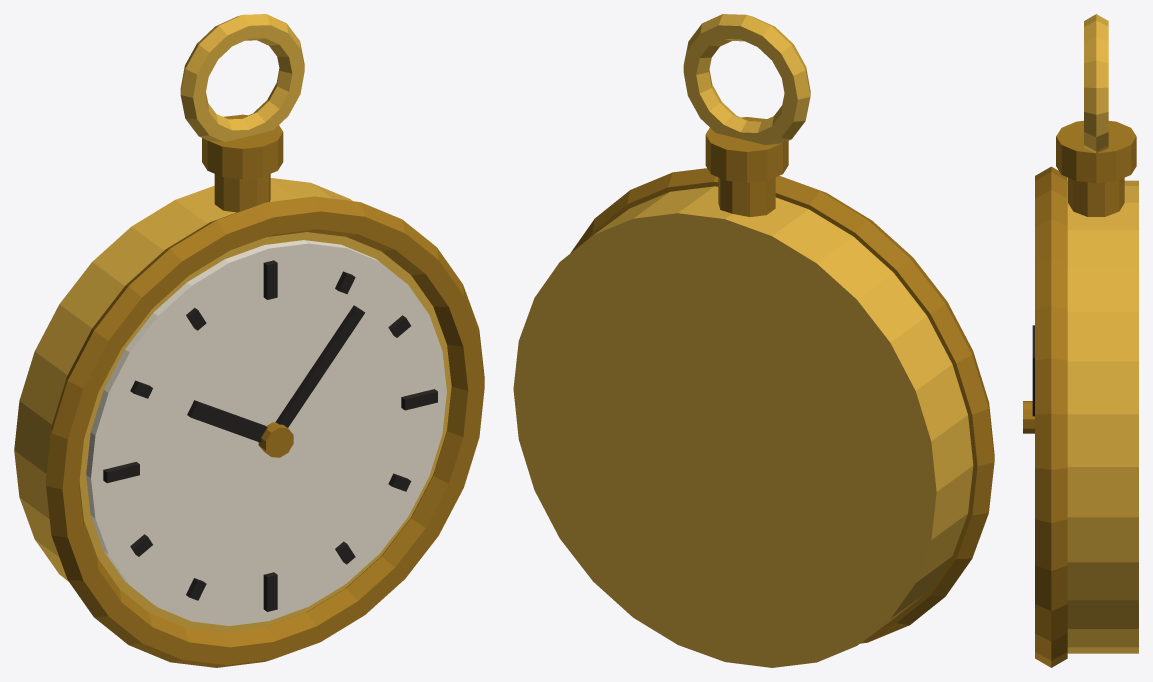
File: charm_relogio.glb
3 views of the same model, side by side, from view 1: azimuth 30°, elevation 25°; view 2: azimuth 150°, elevation 25°; view 3: azimuth 270°, elevation 25° (orthographic). The views are drawn at different scales.
Visible parts, largest first — view 1: mostrador, aro, caixa, argola, coroa, marcas, ponteiros, pino; view 2: caixa, aro, argola, coroa; view 3: caixa, aro, coroa, argola, pino, ponteiros.
Boxes of the visible parts, box(x1,y1,x2,y2) form: mostrador: box(86, 240, 446, 625); aro: box(46, 196, 484, 667); caixa: box(14, 178, 451, 632); argola: box(180, 14, 304, 142); coroa: box(202, 114, 283, 212); marcas: box(103, 260, 437, 611); ponteiros: box(187, 305, 364, 442); pino: box(258, 422, 293, 457); caixa: box(513, 186, 973, 667); aro: box(570, 168, 994, 643); argola: box(683, 14, 810, 144); coroa: box(705, 117, 788, 216); caixa: box(1067, 180, 1138, 653); aro: box(1035, 166, 1067, 667); coroa: box(1056, 120, 1136, 216); argola: box(1084, 14, 1108, 153); pino: box(1023, 401, 1034, 433); ponteiros: box(1032, 325, 1034, 416).
Size of the model in its own units: 2.12 by 2.91 by 0.49.
